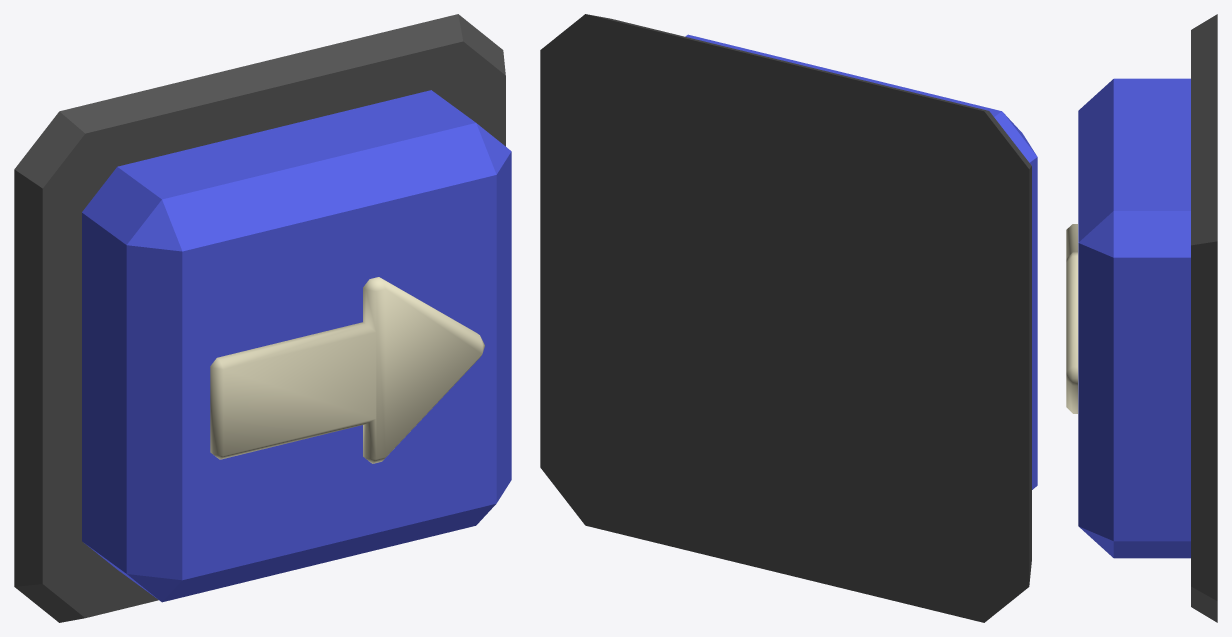
Rendered from arrowButton.fbx.
3 views of the same model, side by side, from view 1: azimuth 30°, elevation 25°; view 2: azimuth 150°, elevation 25°; view 3: azimuth 270°, elevation 25° (orthographic). The views are drawn at different scales.
Parts seen in each view (by area): view 1: Arrow Button; view 2: Arrow Button; view 3: Arrow Button.
Boxes of the visible parts, x1,y1,x2,y2 form: Arrow Button: (14,14,511,622); Arrow Button: (540,14,1037,622); Arrow Button: (1066,14,1217,622).
Size of the model in its own units: 10.45 by 3.25 by 10.45.
